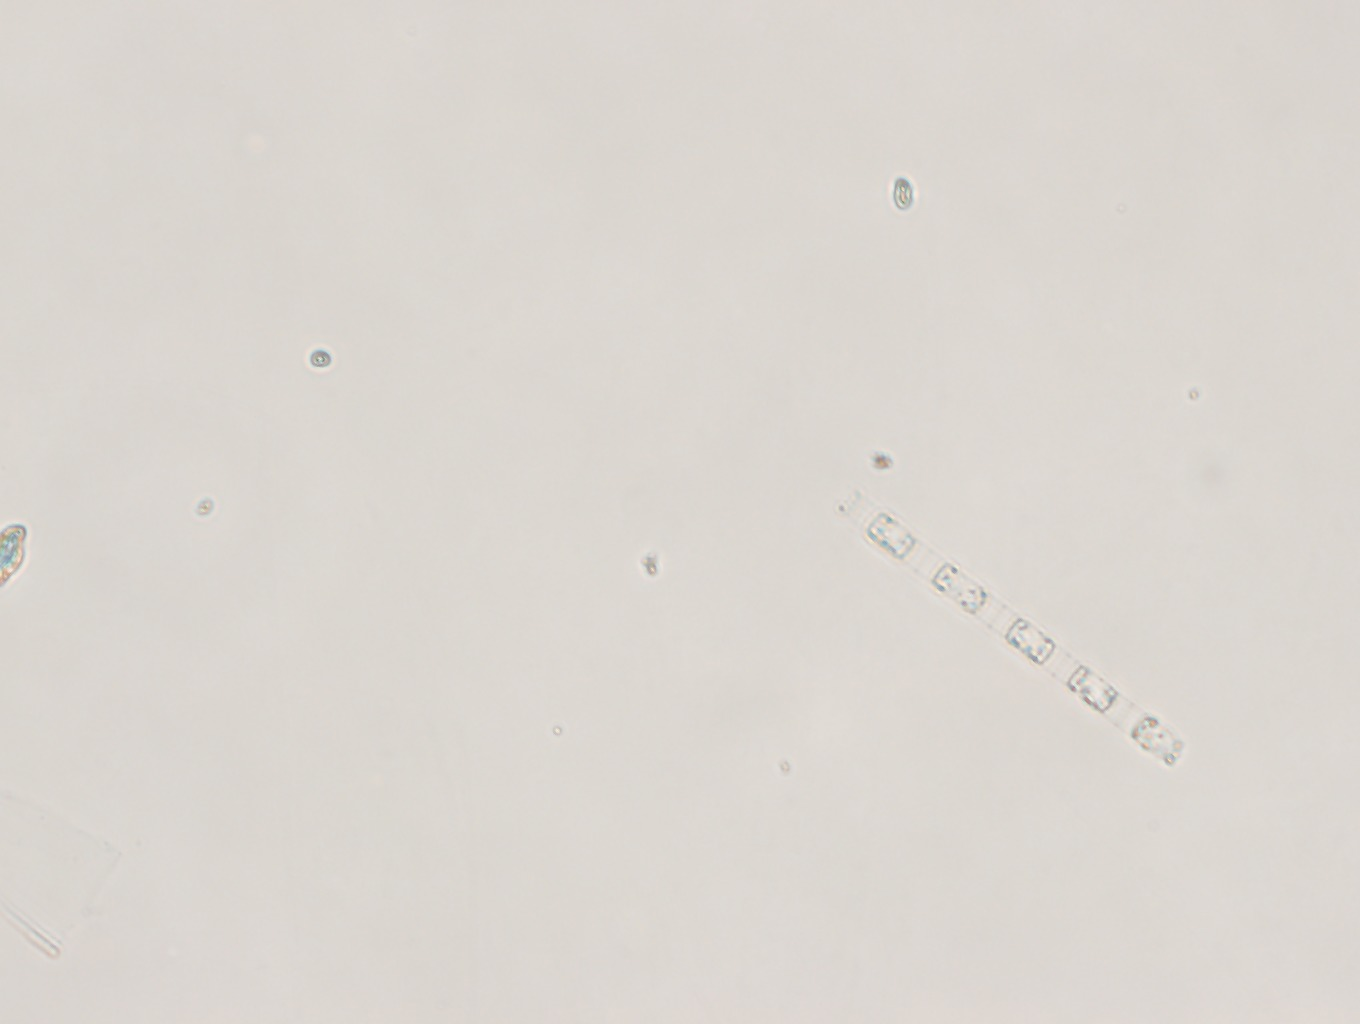skeletonema: (839, 487, 1202, 790)
